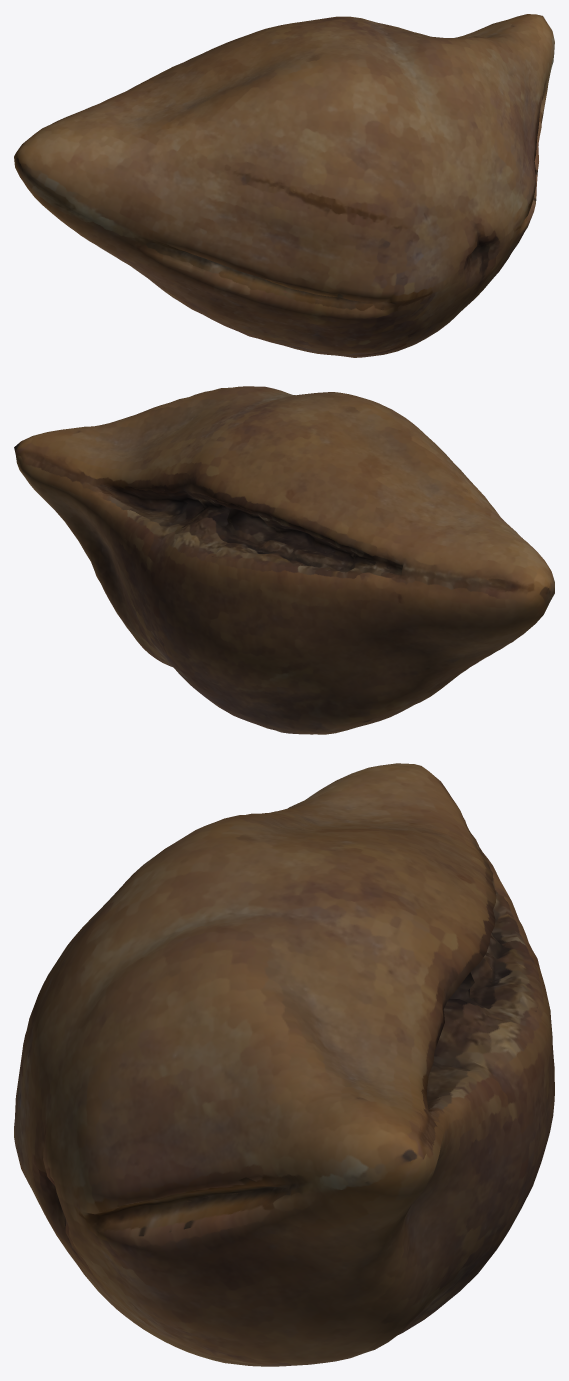
File: ThevetiaWeb.glb
3 renders of one model, top to bottom at view 1: azimuth 30°, elevation 25°; view 2: azimuth 150°, elevation 25°; view 3: azimuth 270°, elevation 25°, orthographic. The views are drawn at different scales.
Visible parts, largest first — view 1: LowRes(4k); view 2: LowRes(4k); view 3: LowRes(4k).
Boxes of the visible parts, x1,y1,x2,y2 form: LowRes(4k): (14,14,554,357); LowRes(4k): (14,386,554,734); LowRes(4k): (14,763,554,1366).
Size of the model in its own units: 0.0385 by 0.021 by 0.0219.
Materials: 1 (1 with a texture image).
